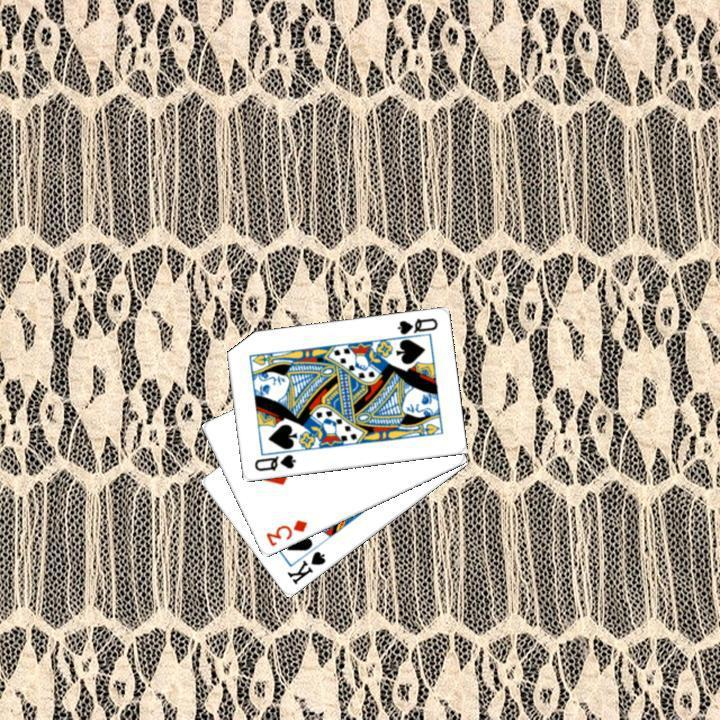3: (261, 516, 310, 549)
K: (282, 547, 328, 587)
Q: (250, 451, 298, 474), (393, 314, 439, 337)
